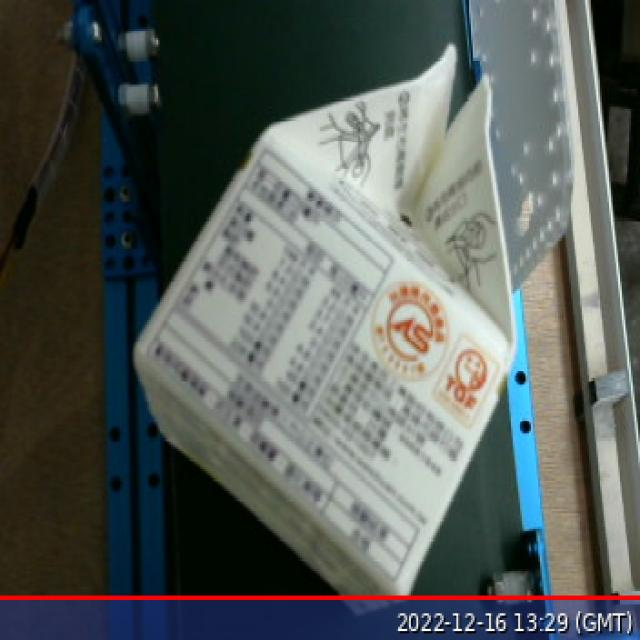non_white_jug: (122, 30, 531, 632)
